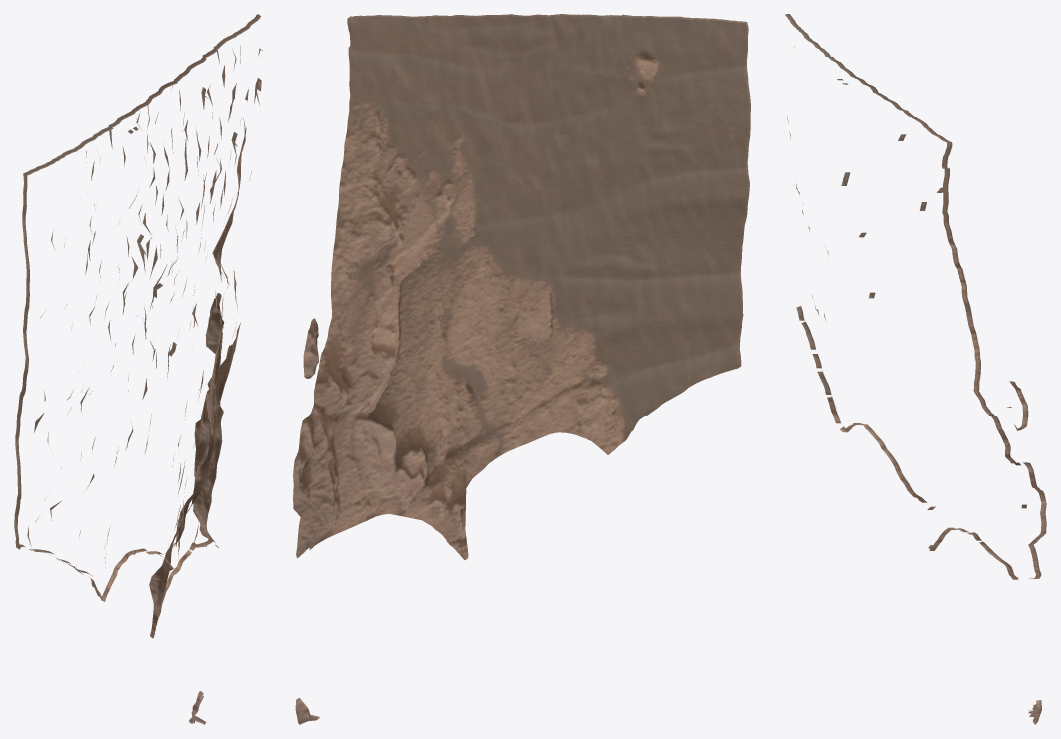
3 views of the same model, side by side, from view 1: azimuth 30°, elevation 25°; view 2: azimuth 150°, elevation 25°; view 3: azimuth 270°, elevation 25° (orthographic). The views are drawn at different scales.
Bounding box in the file's own units: 0.5678 × 1.2 × 0.499.
1 material, 1 textured.
